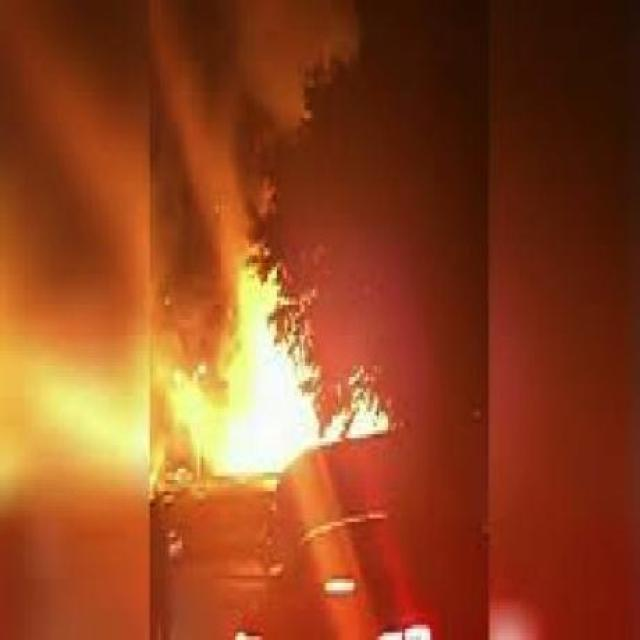Fire: (153, 255, 392, 480)
Smoke: (149, 0, 366, 242)
